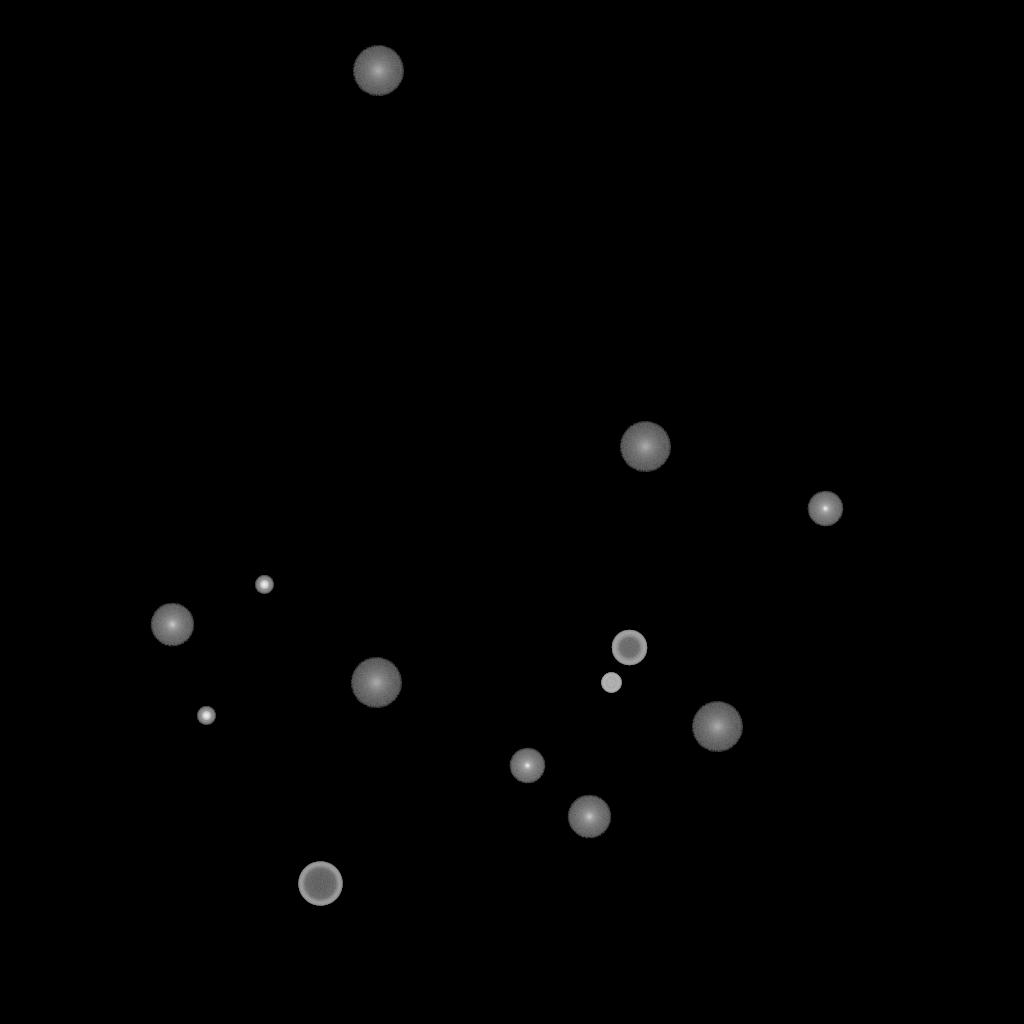depth:-20: (255, 576, 273, 594), (197, 707, 215, 725)
depth:-40: (601, 673, 621, 693)
depth:-60: (611, 630, 647, 666)
depth:-70: (298, 862, 342, 906)
depth:0: (807, 491, 843, 527), (509, 748, 545, 784)
depth:10: (150, 603, 194, 647), (567, 795, 611, 839)
depth:20: (350, 658, 402, 708), (352, 46, 404, 96), (619, 422, 671, 472), (691, 702, 743, 752)
